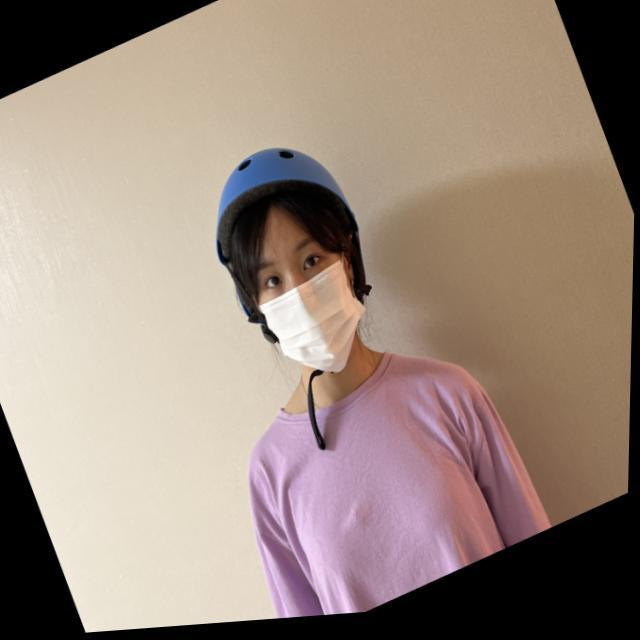Helmet: (212, 144, 374, 375)
